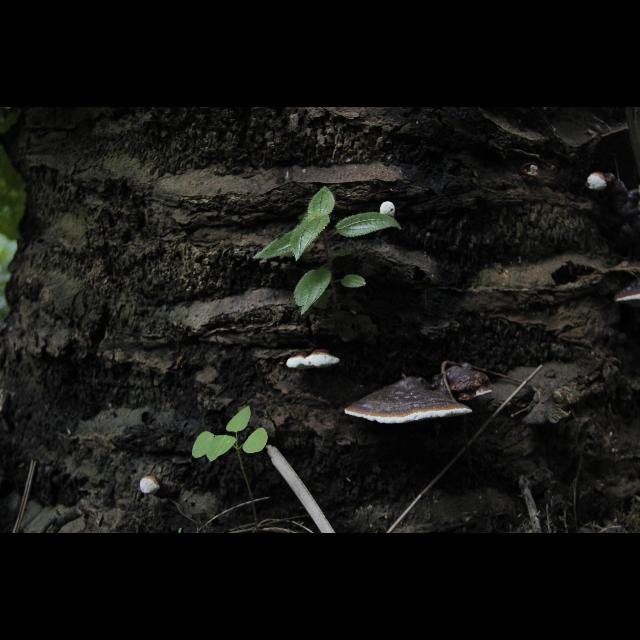ganoderma: (346, 377, 475, 425), (432, 363, 494, 402), (609, 174, 640, 237), (287, 349, 344, 371), (616, 279, 640, 307)
primordium: (141, 476, 163, 497), (586, 172, 608, 193), (380, 201, 399, 221)
